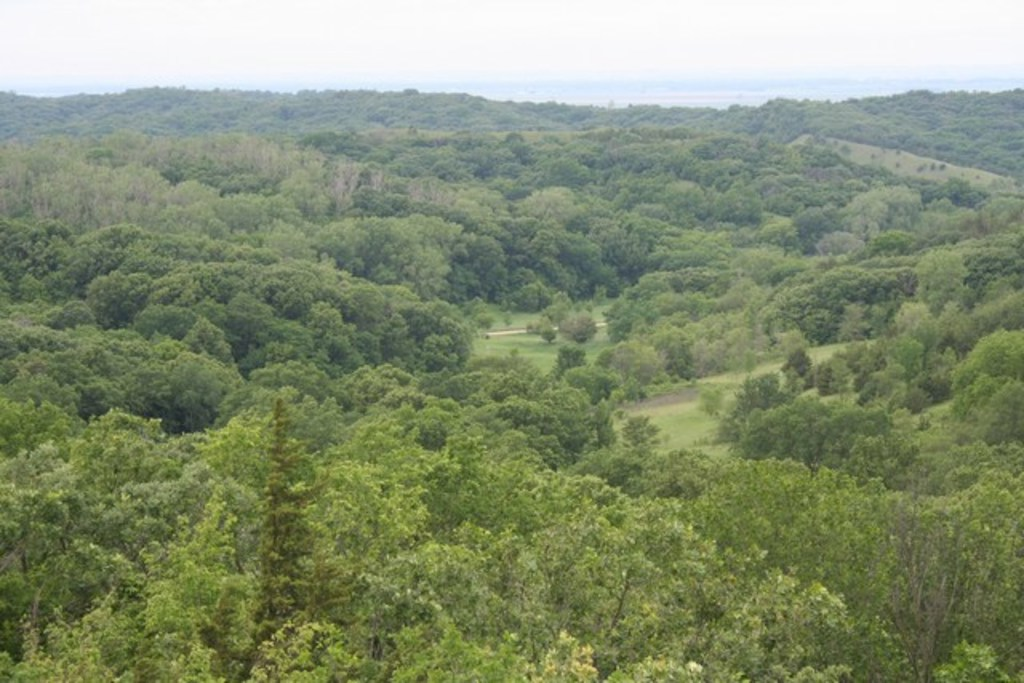Tree: (0, 84, 1024, 683)
